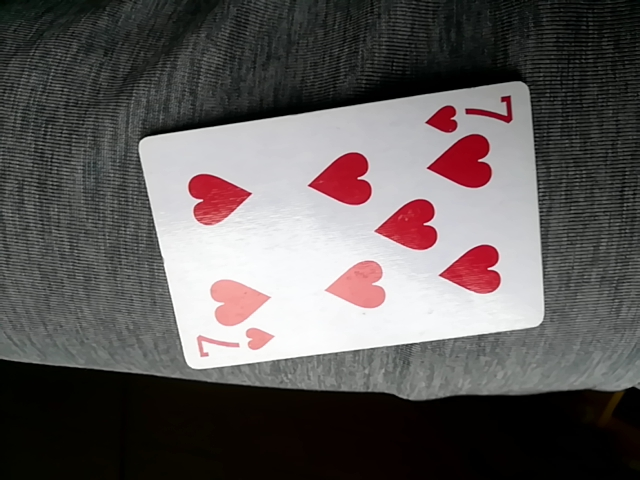hx 7: (144, 80, 548, 370)
